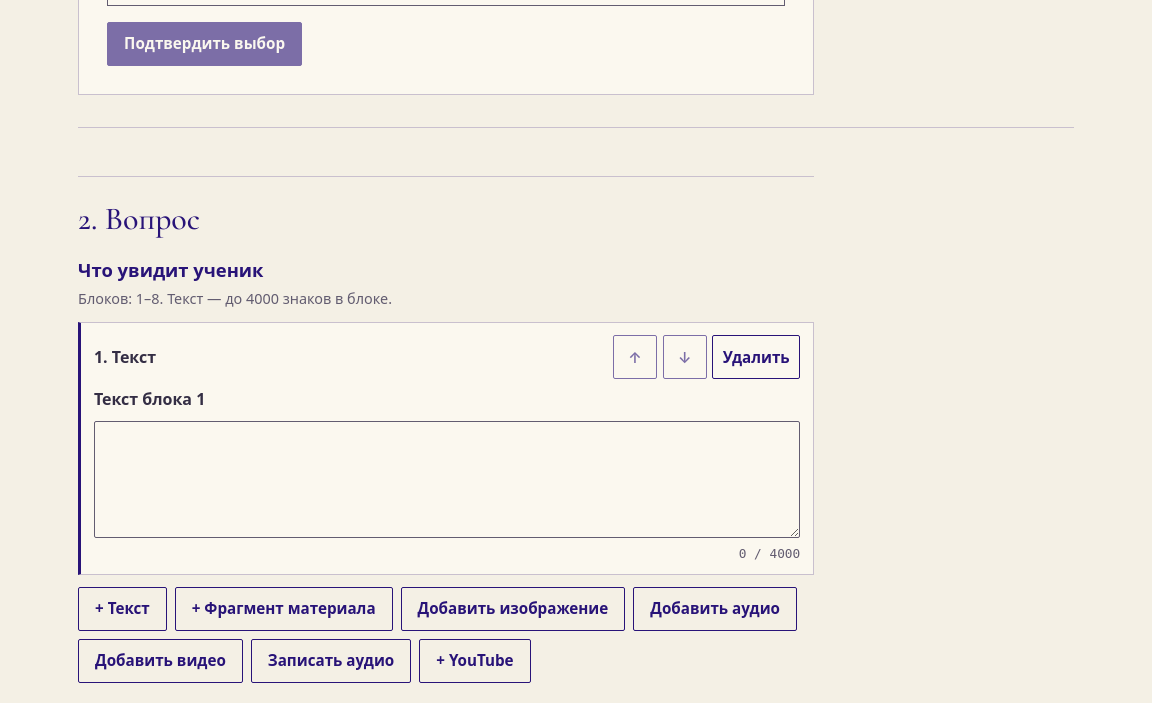
Scenario: ExerciseAuthoringPageComponent › switching the mechanic › switches instantly when the draft has nothing the other type would lose, carrying the question along
(page scrolled)
Type "Что изображено?" into the text box with id "choice-prompt-text-0" at coordinates (447, 480), box [94, 421, 800, 538]
(page scrolled)
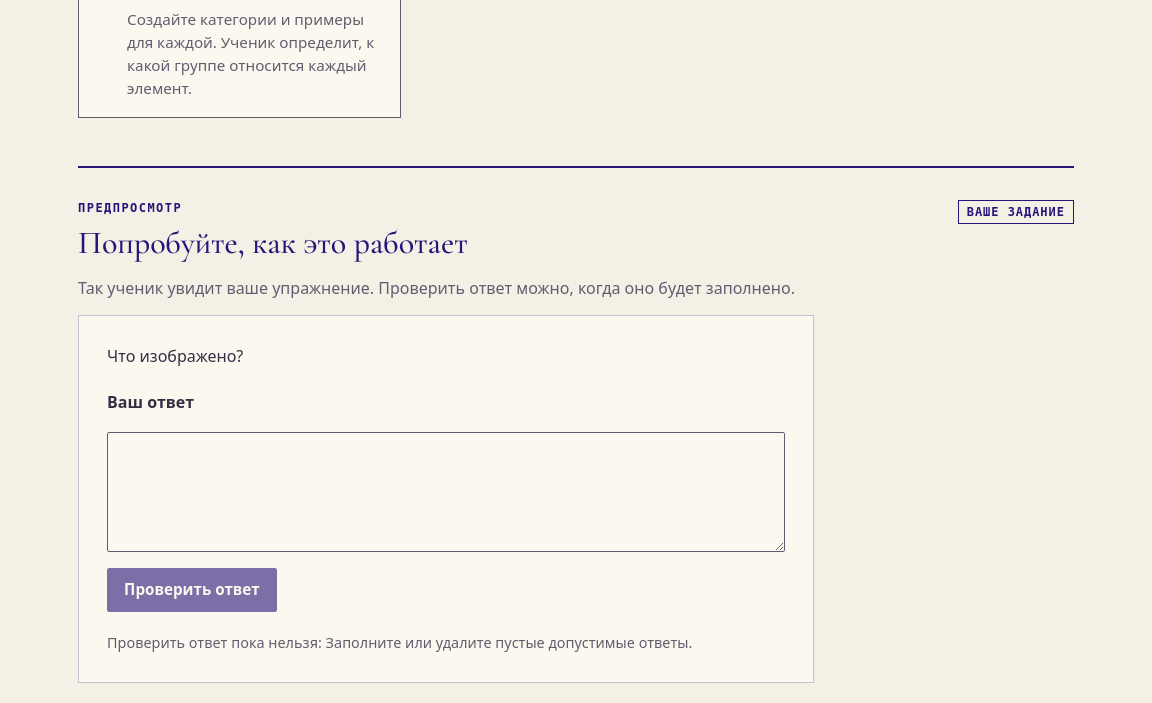
Now the text "Что изображено?" is shown, box [107, 345, 243, 367]
